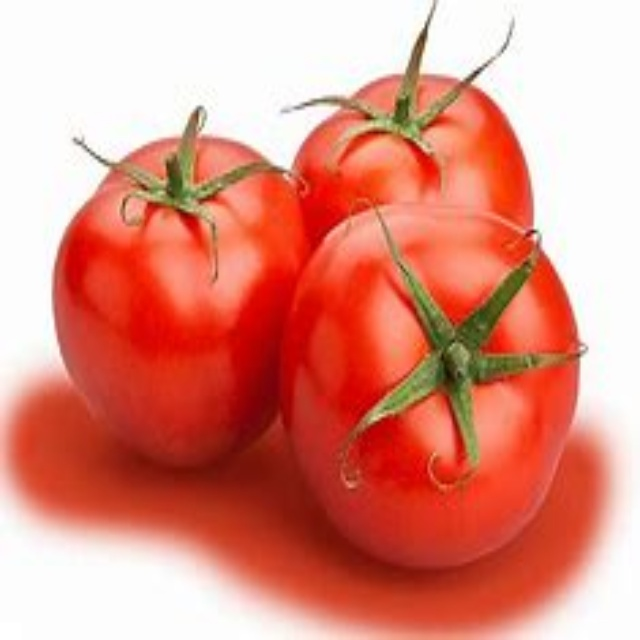tomato: (287, 204, 581, 564), (59, 129, 322, 472), (292, 76, 531, 251)
